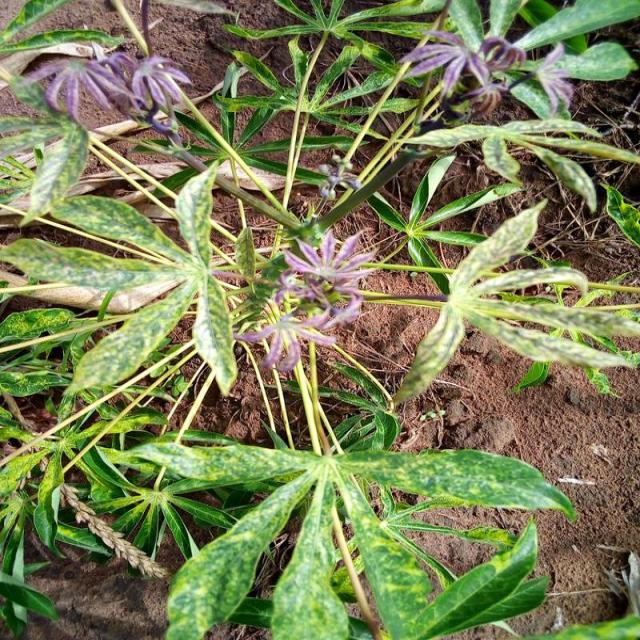cassava leaf: (1, 157, 238, 400)
